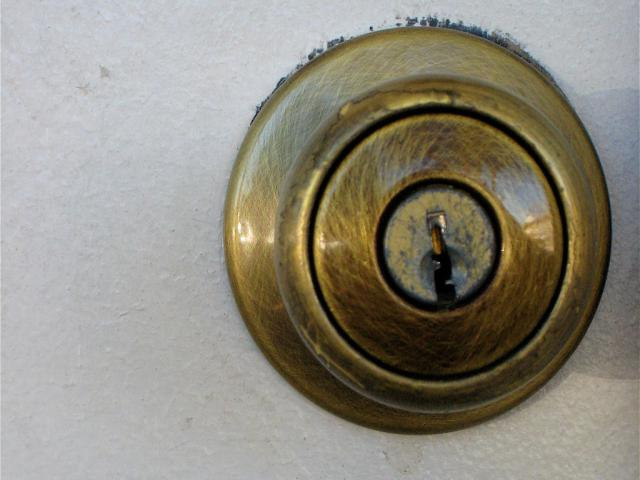Door-handle: (221, 26, 611, 440)
